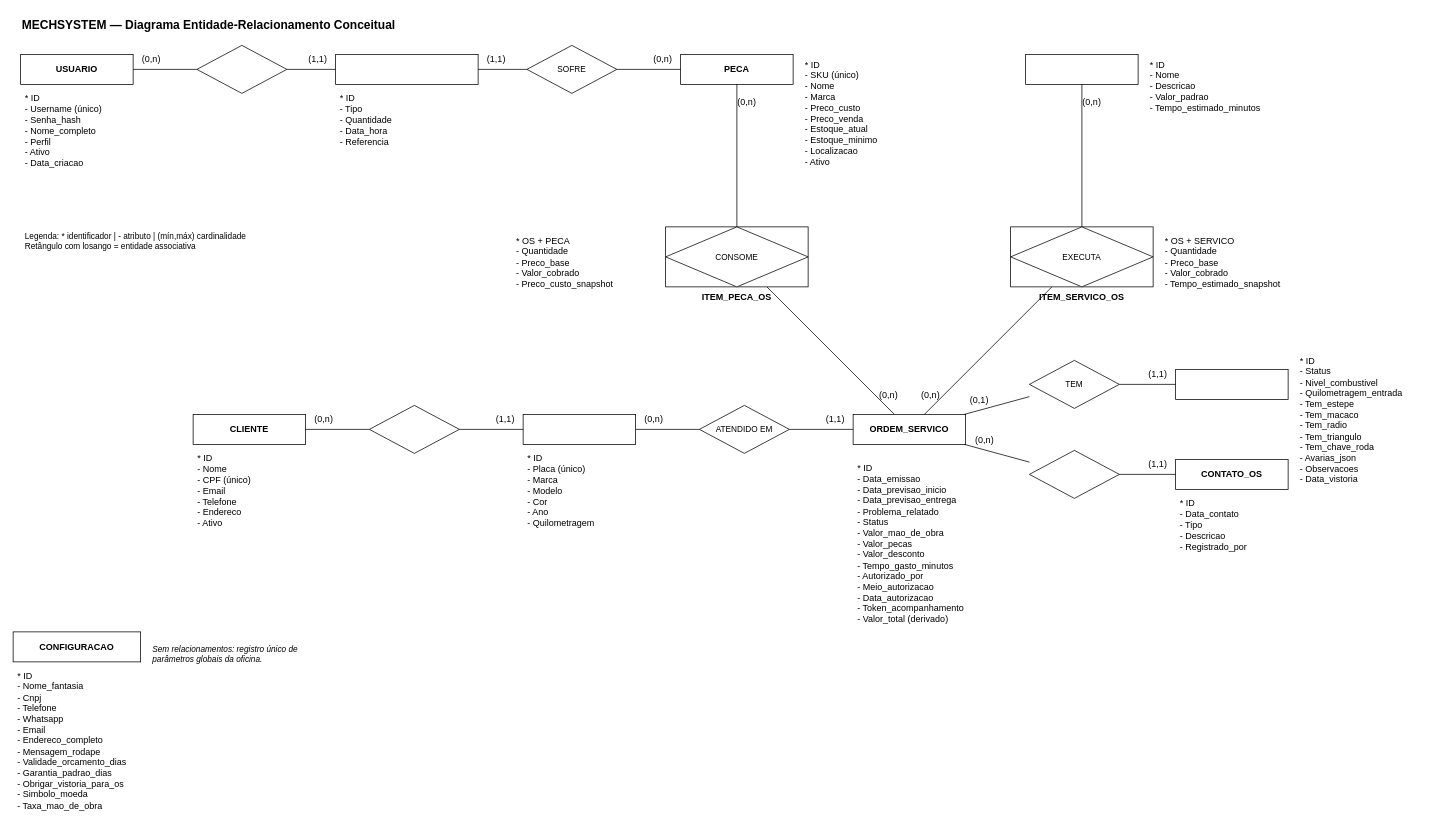
This 1444x832 diagram has some shape labels left out. The centre of each missing label's shape, as x and y in pixels:
MOVIMENTACAO_ESTOQUE: (406,69)
POSSUI: (414,429)
REALIZA: (241,69)
REGISTRA: (1074,474)
SERVICO: (1081,69)
VEICULO: (579,429)
VISTORIA: (1231,384)
